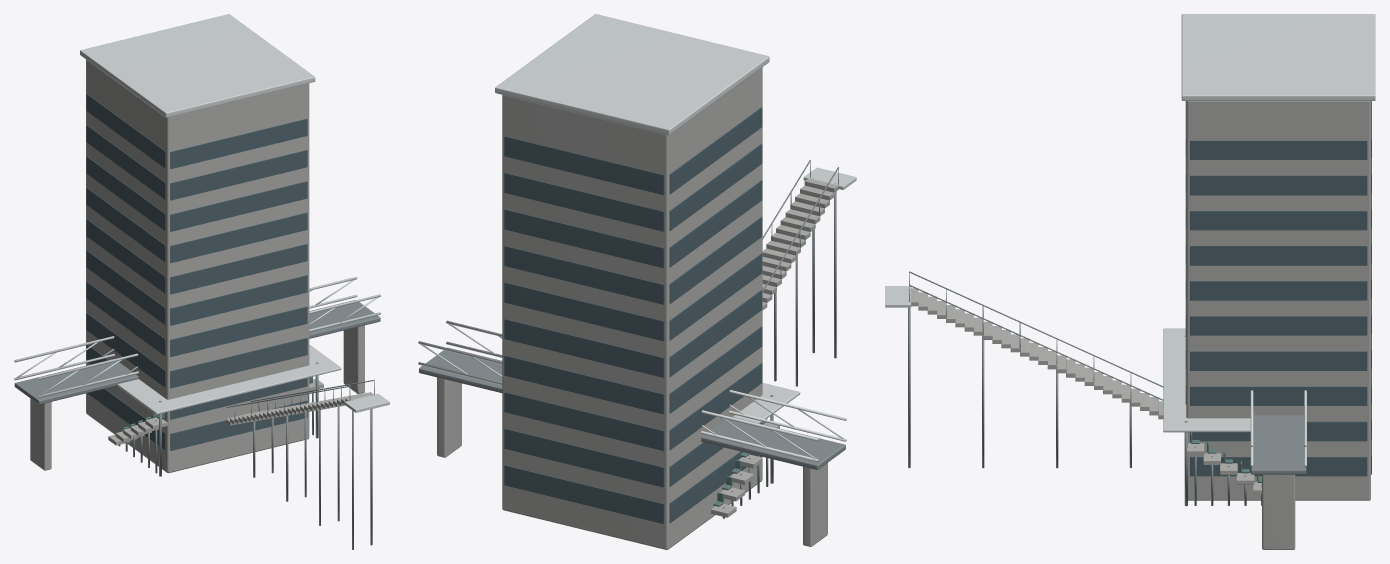
The model's file is venue.glb.
The picture shows the model from 3 angles, left to right: view 1: azimuth 30°, elevation 25°; view 2: azimuth 150°, elevation 25°; view 3: azimuth 270°, elevation 25°; orthographic projection. The views are drawn at different scales.
Parts seen in each view (by area): view 1: KIT_CityBlock_Kit_Concrete.003, KIT_CityBlock_Kit_Glass.003, KIT_CityBlock_Kit_Paint.003, KIT_Bridge_Kit_Steel.003, KIT_Grandstand_Kit_Paint.003, KIT_StadiumAisle_Kit_Steel.003, KIT_Bridge_Kit_Concrete.003, KIT_Bridge_Kit_Paint.003, KIT_StadiumAisle_Kit_Concrete.003, KIT_Grandstand_Kit_Steel.003, KIT_Grandstand_Kit_Concrete.003, KIT_StadiumAisle_Kit_Paint.003; view 2: KIT_CityBlock_Kit_Concrete.003, KIT_CityBlock_Kit_Glass.003, KIT_CityBlock_Kit_Paint.003, KIT_Bridge_Kit_Steel.003, KIT_Bridge_Kit_Concrete.003, KIT_StadiumAisle_Kit_Concrete.003, KIT_Bridge_Kit_Paint.003, KIT_StadiumAisle_Kit_Steel.003, KIT_Grandstand_Kit_Paint.003, KIT_Grandstand_Kit_Concrete.003, KIT_StadiumAisle_Kit_Paint.003; view 3: KIT_CityBlock_Kit_Concrete.003, KIT_CityBlock_Kit_Glass.003, KIT_CityBlock_Kit_Paint.003, KIT_StadiumAisle_Kit_Concrete.003, KIT_Grandstand_Kit_Paint.003, KIT_Bridge_Kit_Steel.003, KIT_StadiumAisle_Kit_Steel.003, KIT_Bridge_Kit_Concrete.003, KIT_Grandstand_Kit_Concrete.003, KIT_Grandstand_Kit_Steel.003.
Boxes of the visible parts, x1,y1,x2,y2 form: KIT_CityBlock_Kit_Concrete.003: (86,59,309,473); KIT_CityBlock_Kit_Glass.003: (86,93,307,450); KIT_CityBlock_Kit_Paint.003: (80,14,315,117); KIT_Bridge_Kit_Steel.003: (14,300,380,404); KIT_Grandstand_Kit_Paint.003: (117,344,341,414); KIT_StadiumAisle_Kit_Steel.003: (226,379,374,549); KIT_Bridge_Kit_Concrete.003: (30,325,364,470); KIT_Bridge_Kit_Paint.003: (14,277,381,397); KIT_StadiumAisle_Kit_Concrete.003: (226,392,373,425); KIT_Grandstand_Kit_Steel.003: (118,362,318,476); KIT_Grandstand_Kit_Concrete.003: (108,378,323,445); KIT_StadiumAisle_Kit_Paint.003: (344,393,389,412); KIT_CityBlock_Kit_Concrete.003: (502,67,762,549); KIT_CityBlock_Kit_Glass.003: (504,107,762,523); KIT_CityBlock_Kit_Paint.003: (495,14,769,135); KIT_Bridge_Kit_Steel.003: (419,347,845,469); KIT_Bridge_Kit_Concrete.003: (437,377,827,546); KIT_StadiumAisle_Kit_Concrete.003: (762,178,838,310); KIT_Bridge_Kit_Paint.003: (418,320,846,461); KIT_StadiumAisle_Kit_Steel.003: (762,160,838,386); KIT_Grandstand_Kit_Paint.003: (733,383,800,423); KIT_Grandstand_Kit_Concrete.003: (711,422,779,517); KIT_StadiumAisle_Kit_Paint.003: (803,167,856,189); KIT_CityBlock_Kit_Concrete.003: (1186,101,1370,500); KIT_CityBlock_Kit_Glass.003: (1185,101,1371,476); KIT_CityBlock_Kit_Paint.003: (1181,14,1375,100); KIT_StadiumAisle_Kit_Concrete.003: (910,288,1163,419); KIT_Grandstand_Kit_Paint.003: (1163,328,1250,432); KIT_Bridge_Kit_Steel.003: (1251,415,1306,474); KIT_StadiumAisle_Kit_Steel.003: (908,271,1163,468); KIT_Bridge_Kit_Concrete.003: (1262,474,1295,549); KIT_Grandstand_Kit_Concrete.003: (1186,443,1261,494); KIT_Grandstand_Kit_Steel.003: (1184,335,1261,506).
Size of the model in its own units: 24.03 by 24.39 by 26.55.
